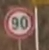limite 90: (2, 7, 36, 40)
